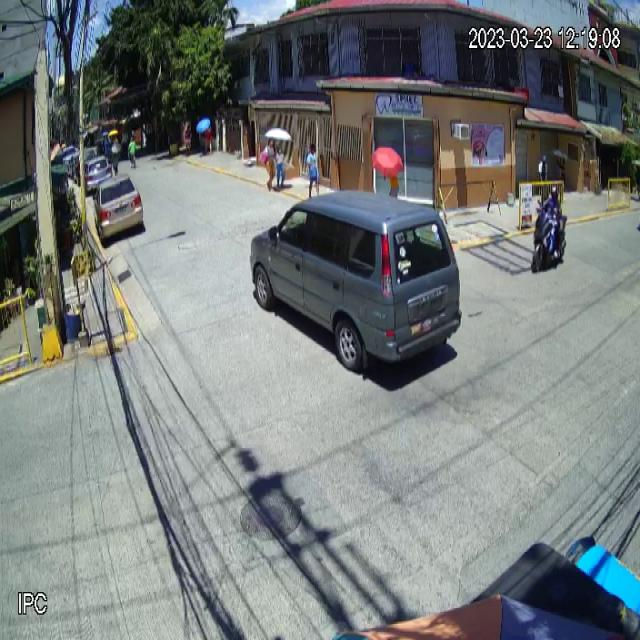Car: (249, 188, 462, 380)
